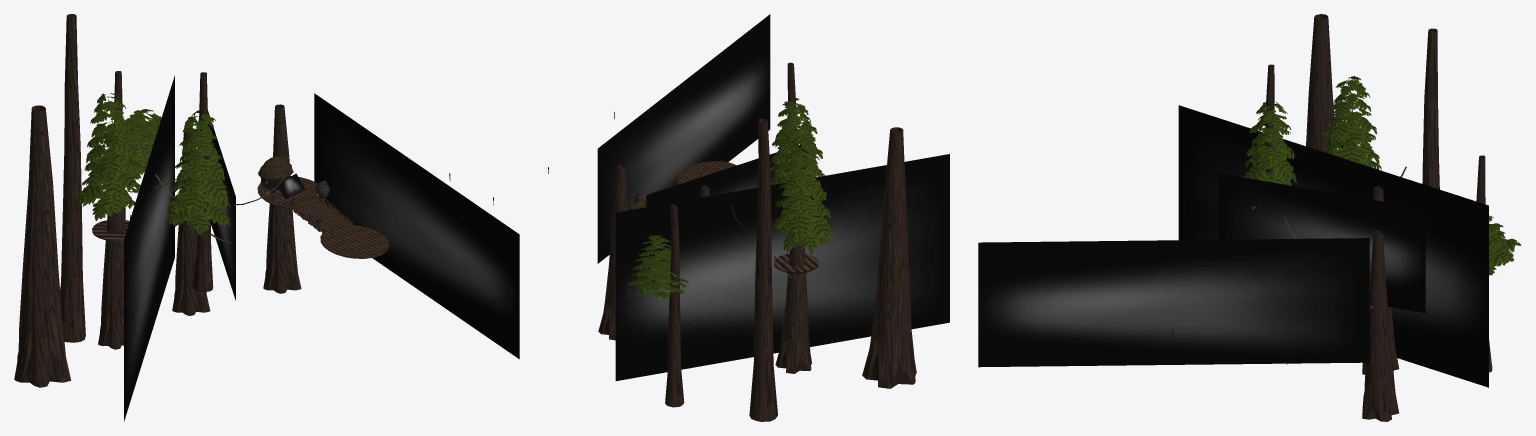
Rendered from env_endor_ewokvillage_pre.glb.
3 renders of one model, left to right at view 1: azimuth 30°, elevation 25°; view 2: azimuth 150°, elevation 25°; view 3: azimuth 270°, elevation 25°, orthographic. The views are drawn at different scales.
Parts seen in each view (by area): view 1: fogplane_01_mesh (×3), end_trunk_a1_03_mesh (×3), end_branch_a1_02_mesh (×3), end_trunk_a1_01_mesh (×2), end_ewok_platform_top_mesh, end_trunk_a1_03_mesh (1), end_hut_02_mesh; view 2: fogplane_01_mesh (×3), end_trunk_a1_03_mesh (×2), end_branch_a1_02_mesh (×3), end_trunk_a1_01_mesh (×2), end_trunk_a1_03_mesh (1), end_ewok_platform_top_mesh, end_ewok_platform_round; view 3: fogplane_01_mesh (×3), end_branch_a1_02_mesh (×3), end_trunk_a1_03_mesh (1), end_trunk_a1_03_mesh (×2), end_trunk_a1_01_mesh (×2).
Boxes of the visible parts, x1,y1,x2,y2 form: fogplane_01_mesh (×3): (124,75,519,421); end_trunk_a1_03_mesh (×3): (14,105,210,387); end_branch_a1_02_mesh (×3): (75,93,230,235); end_trunk_a1_01_mesh (×2): (60,14,213,342); end_ewok_platform_top_mesh: (257,176,389,257); end_trunk_a1_03_mesh (1): (263,104,301,293); end_hut_02_mesh: (258,156,293,190); fogplane_01_mesh (×3): (597,14,949,380); end_trunk_a1_03_mesh (×2): (775,127,916,388); end_branch_a1_02_mesh (×3): (627,98,833,299); end_trunk_a1_01_mesh (×2): (665,118,777,421); end_trunk_a1_03_mesh (1): (598,165,627,340); end_ewok_platform_top_mesh: (675,161,736,185); end_ewok_platform_round: (773,253,818,278); fogplane_01_mesh (×3): (978,105,1488,387); end_branch_a1_02_mesh (×3): (1242,76,1520,275); end_trunk_a1_03_mesh (1): (1362,230,1399,421); end_trunk_a1_03_mesh (×2): (1306,14,1399,374); end_trunk_a1_01_mesh (×2): (1264,28,1439,189).
Size of what is drawn, in the model's own units: 117 by 85.91 by 133.
Materials: 13 (13 with a texture image).
